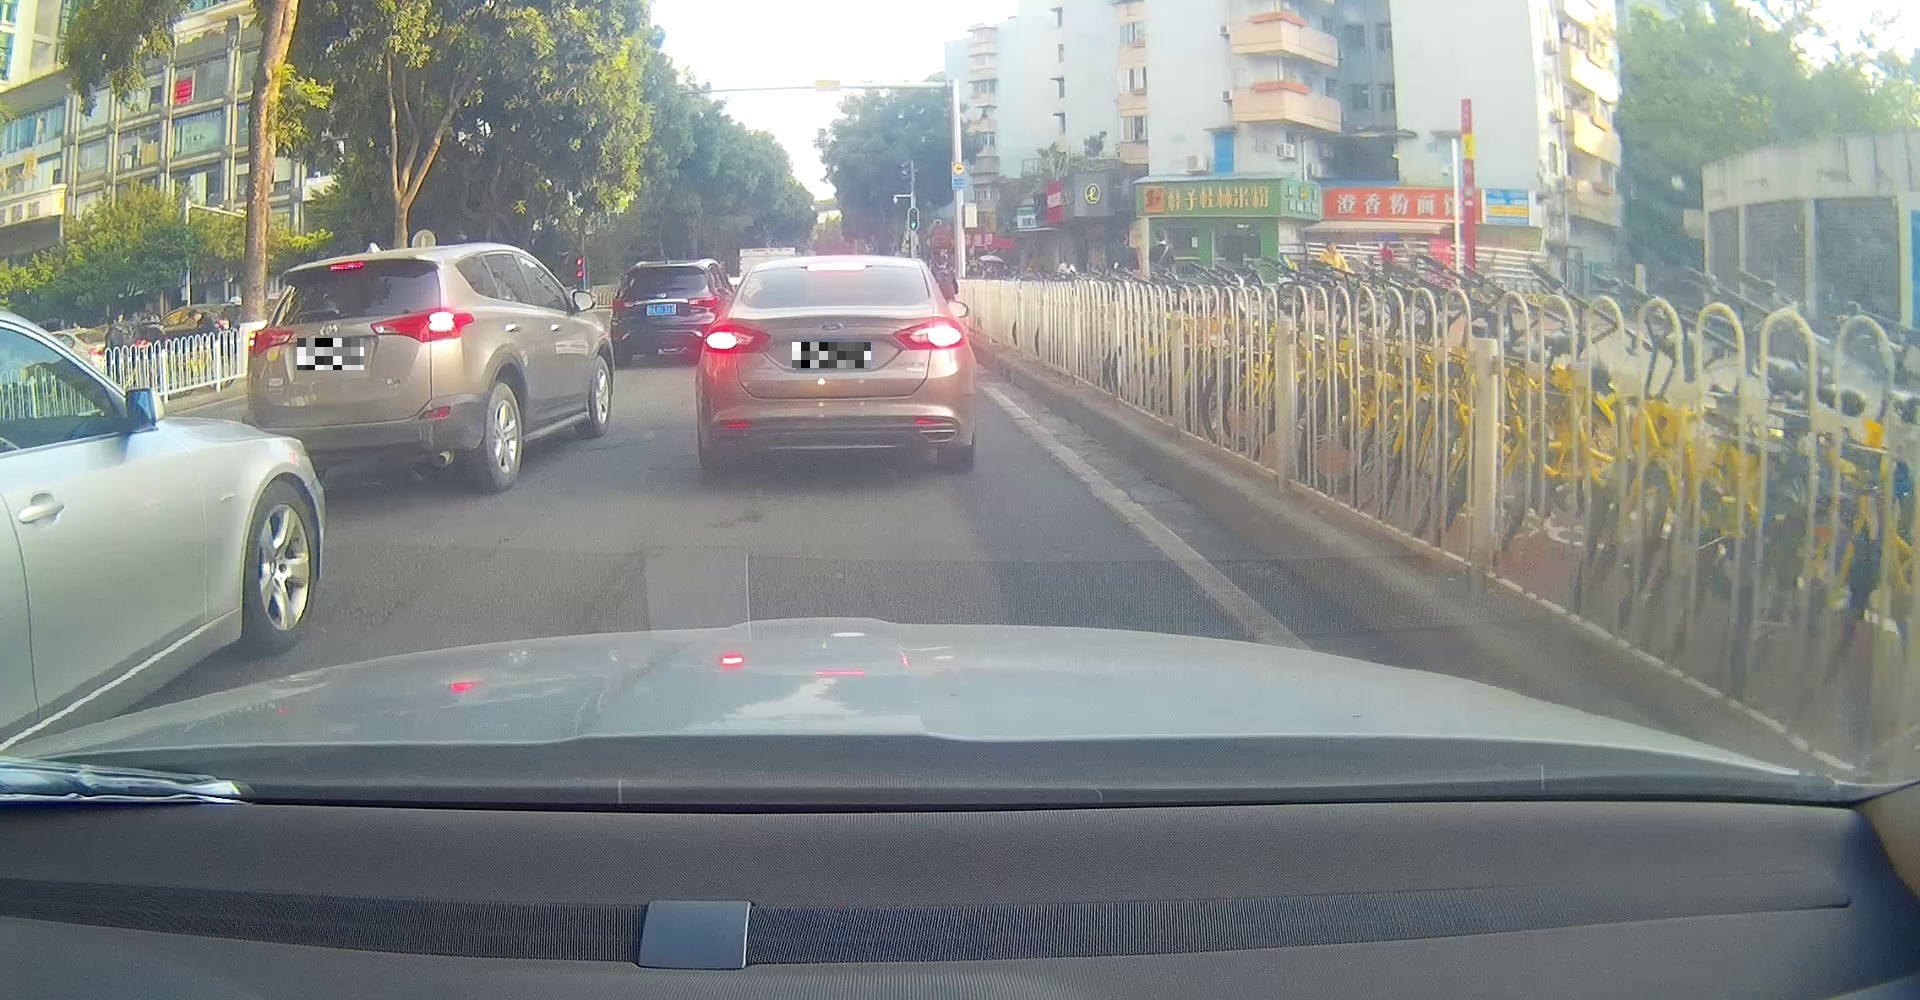L_light: (703, 324, 771, 354), (248, 326, 295, 357)
R_light: (370, 307, 475, 341), (891, 317, 966, 352)
T_light: (805, 260, 866, 272), (328, 260, 364, 273)
day-brake: (700, 254, 968, 471), (245, 247, 477, 492)
plate_1: (297, 338, 364, 371)
plate_2: (792, 341, 871, 368)
